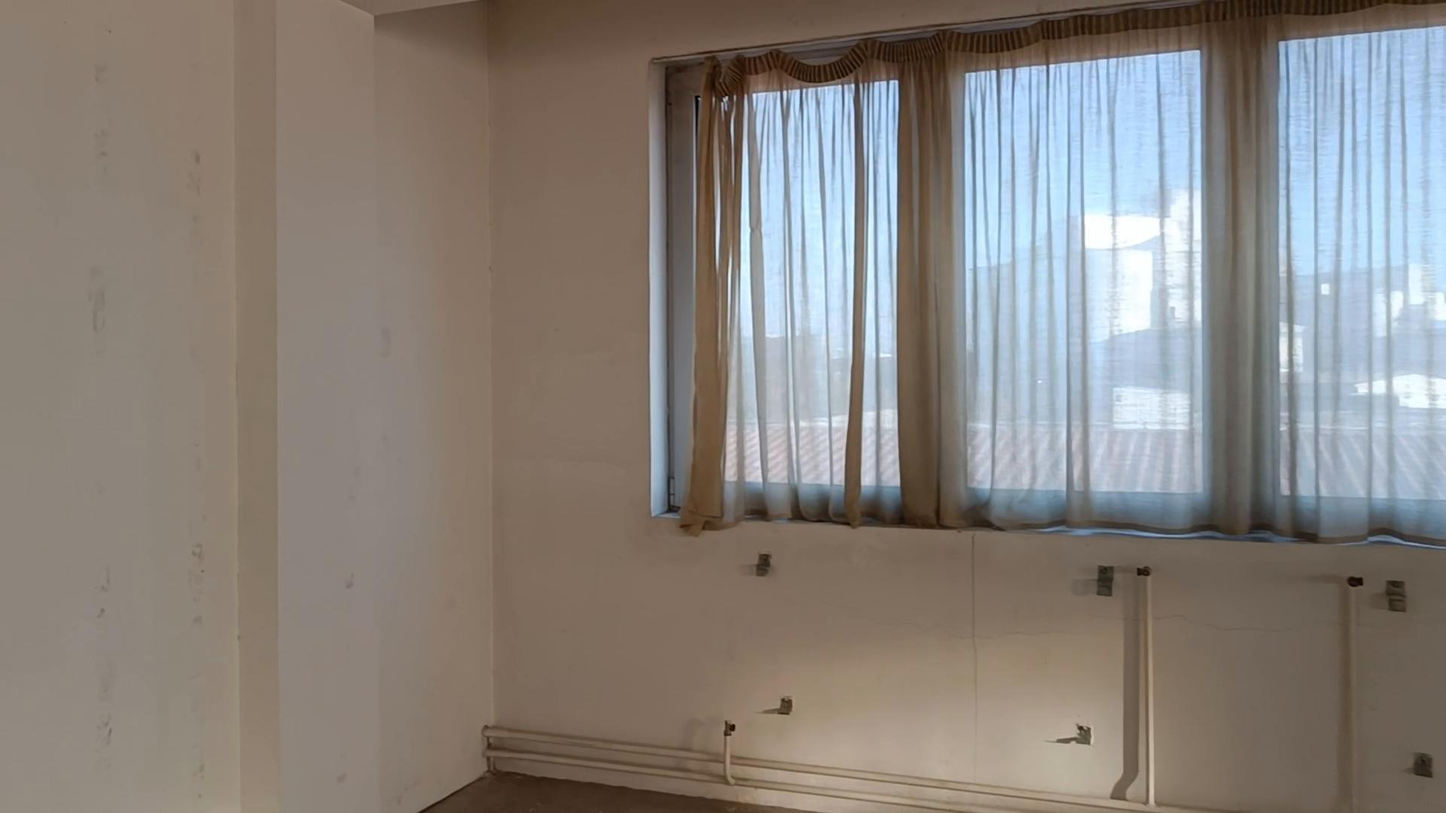floor: (421, 772, 809, 812)
wall: (0, 0, 1445, 812), (1042, 566, 1132, 779)
